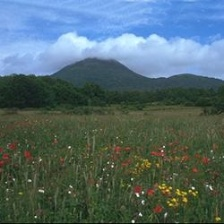neutral: (2, 2, 222, 224)
